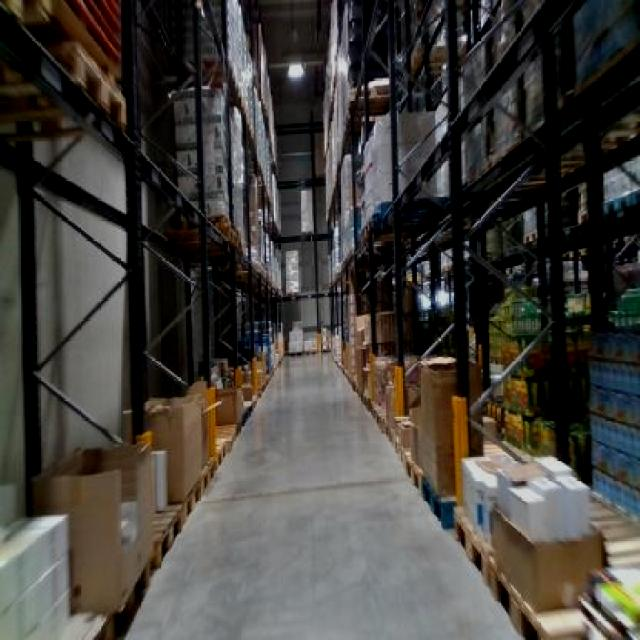pallets: (125, 354, 515, 637), (588, 329, 637, 514), (0, 514, 66, 637)
